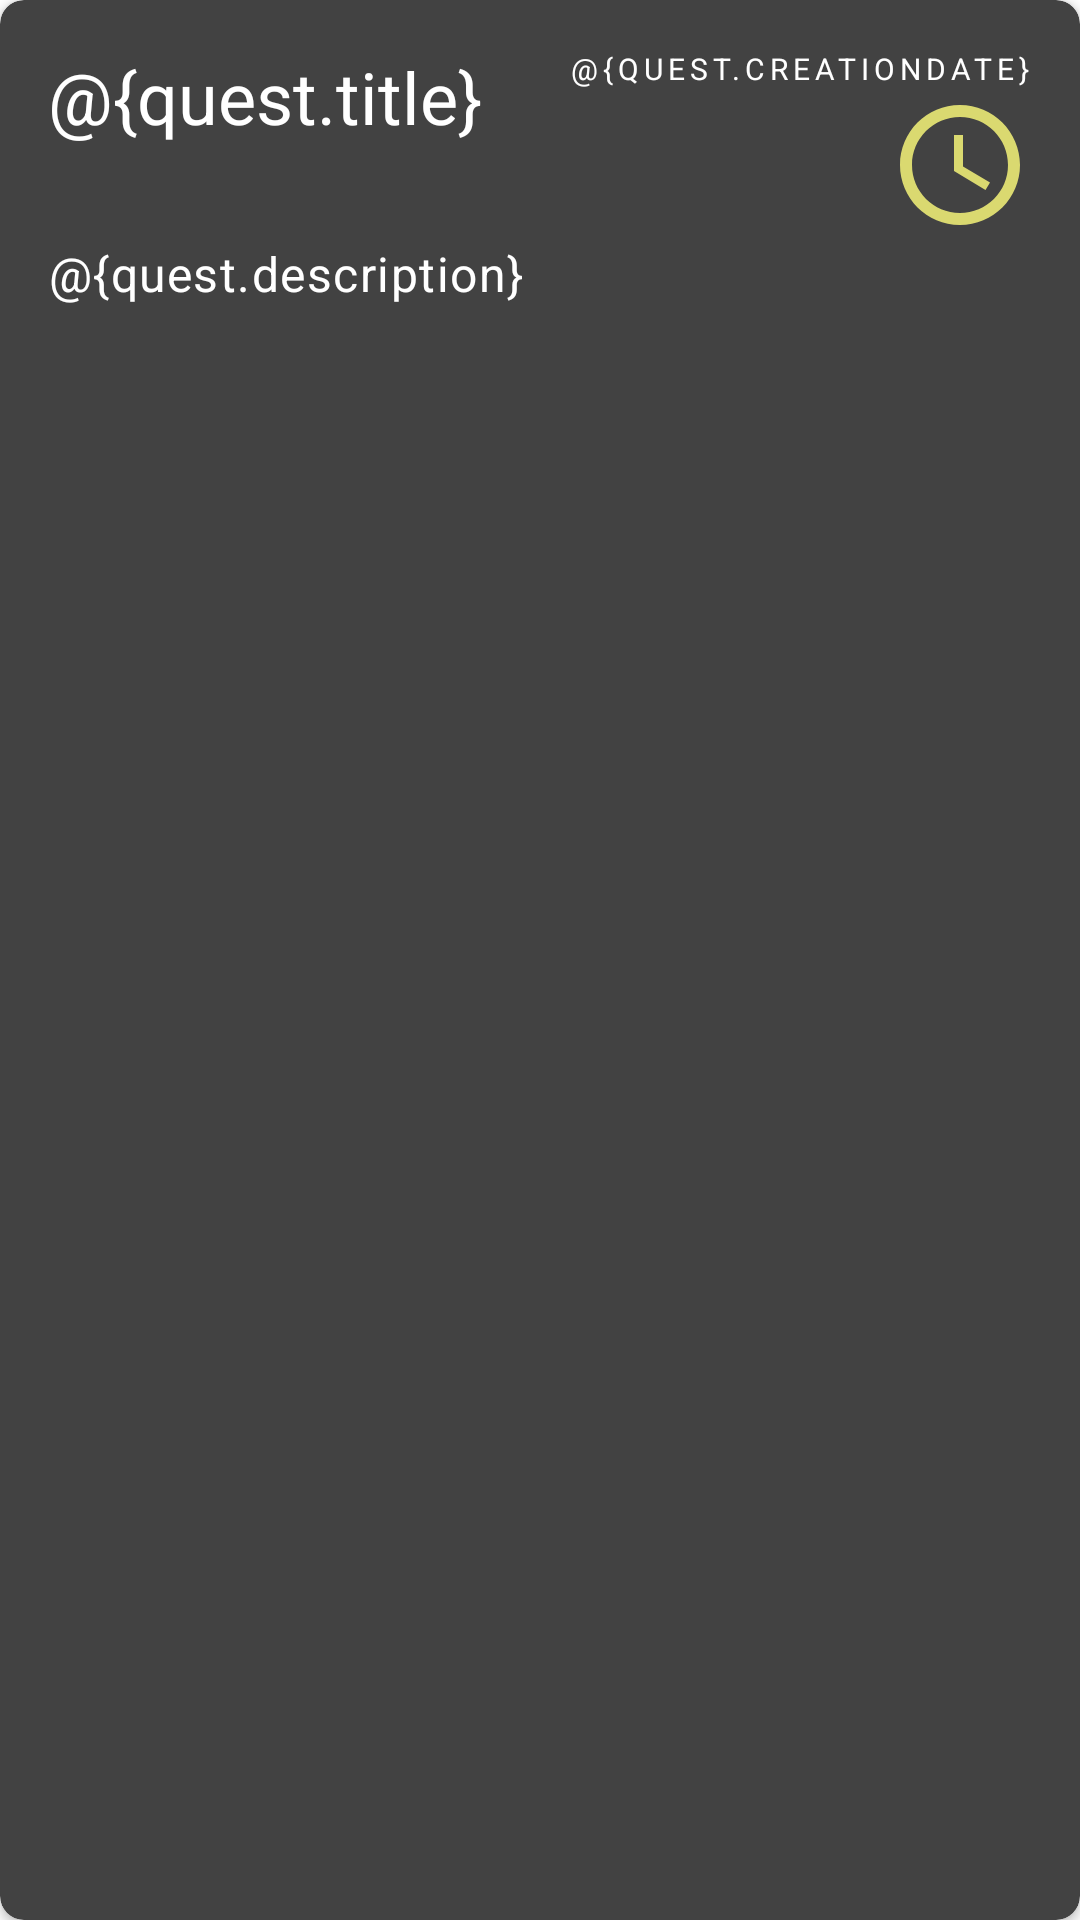

Where to tap for icons on this 1080 x 1920 app screen, as (x=x, y=y):
clock: (x=960, y=165)
